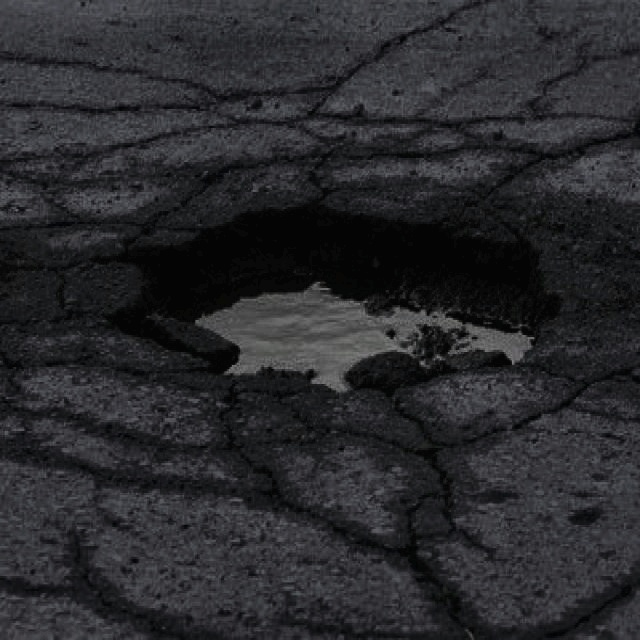Pothole: (102, 190, 564, 406)
